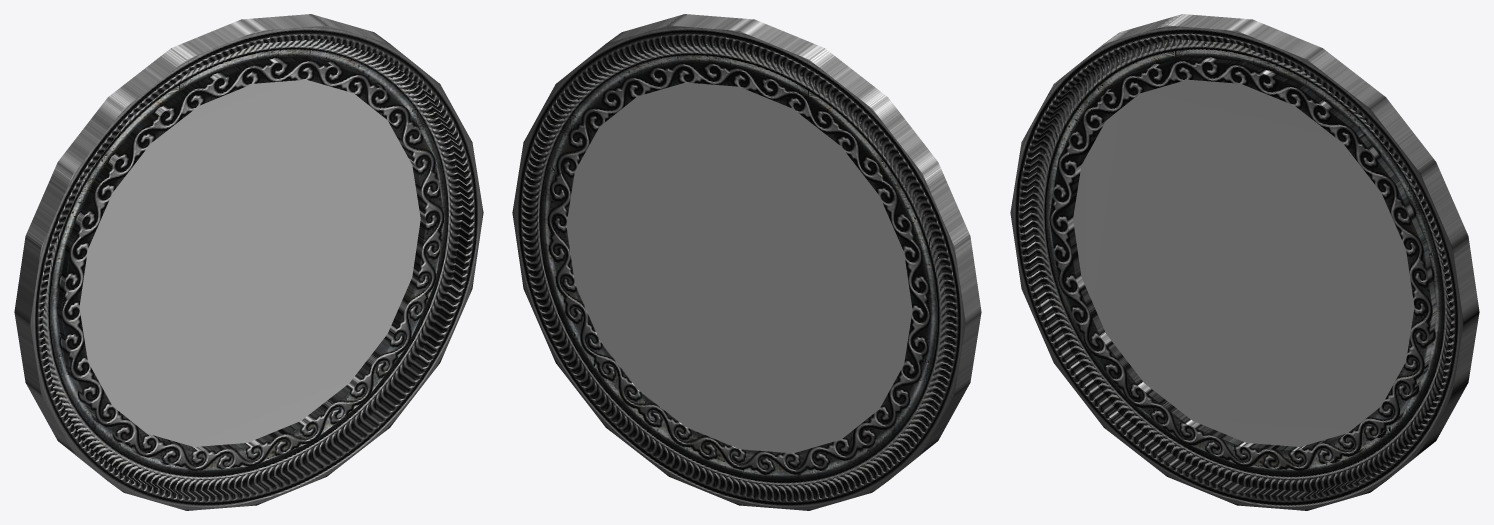
The model's file is Picture frame 1.fbx.
3 views of the same model, side by side, from view 1: azimuth 30°, elevation 25°; view 2: azimuth 150°, elevation 25°; view 3: azimuth 330°, elevation 25° (orthographic).
Visible parts, largest first — view 1: pCylinder2; view 2: pCylinder2; view 3: pCylinder2.
Boxes of the visible parts, x1,y1,x2,y2 form: pCylinder2: [14, 14, 483, 510]; pCylinder2: [512, 14, 981, 510]; pCylinder2: [1010, 14, 1479, 510].
Size of the model in its own units: 3.14 by 3.14 by 0.1884.
